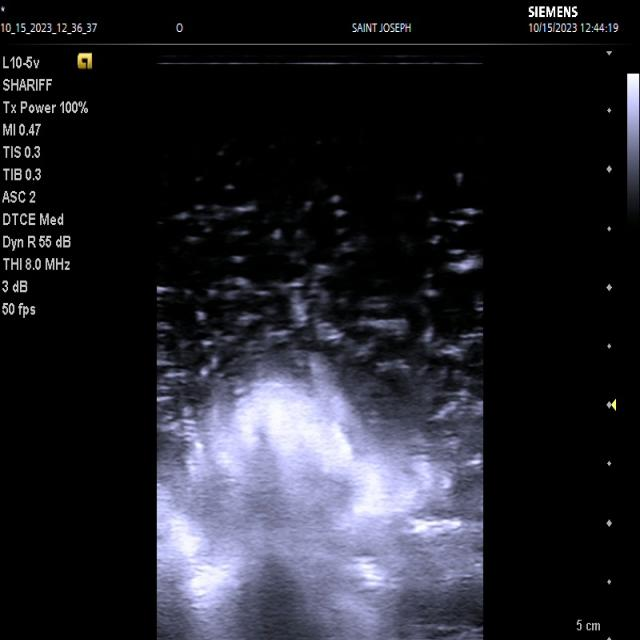tissue: (158, 383, 454, 640)
